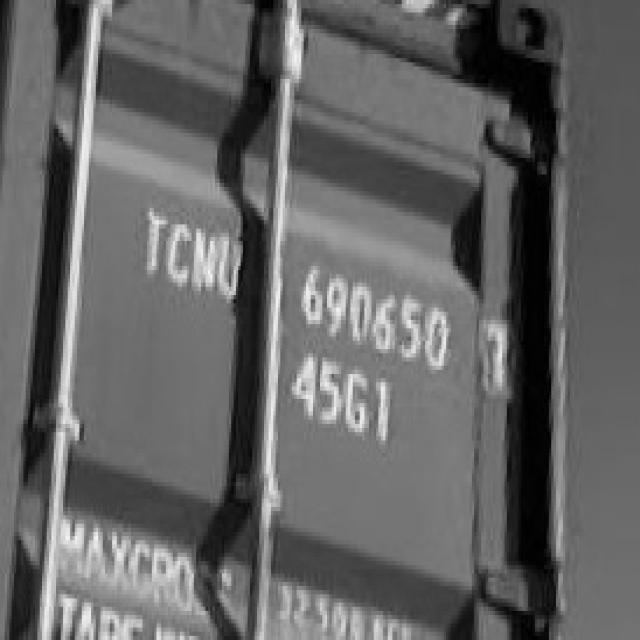dv: (479, 301, 513, 395)
owner: (138, 196, 246, 312)
serial: (296, 257, 455, 370)
size: (285, 351, 396, 459)
